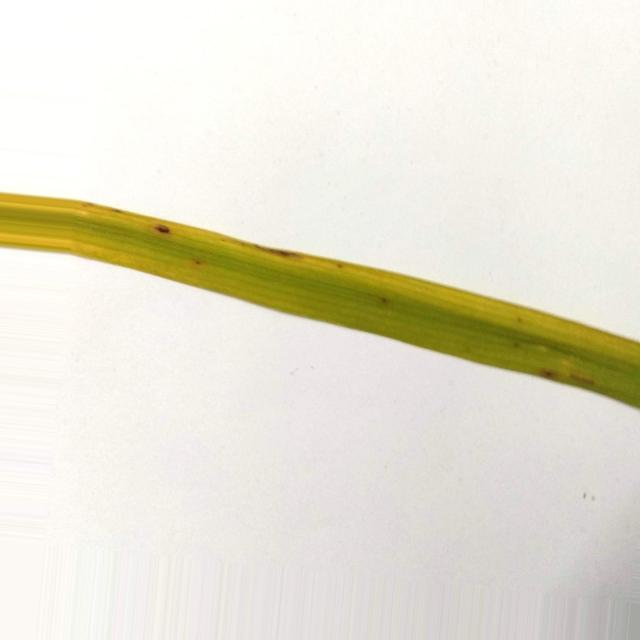Brown_Spot: (569, 371, 599, 391), (260, 246, 304, 258), (530, 362, 558, 379), (189, 255, 206, 266), (334, 260, 350, 271), (511, 339, 525, 350), (155, 224, 170, 234), (515, 314, 525, 328), (379, 297, 391, 306)
